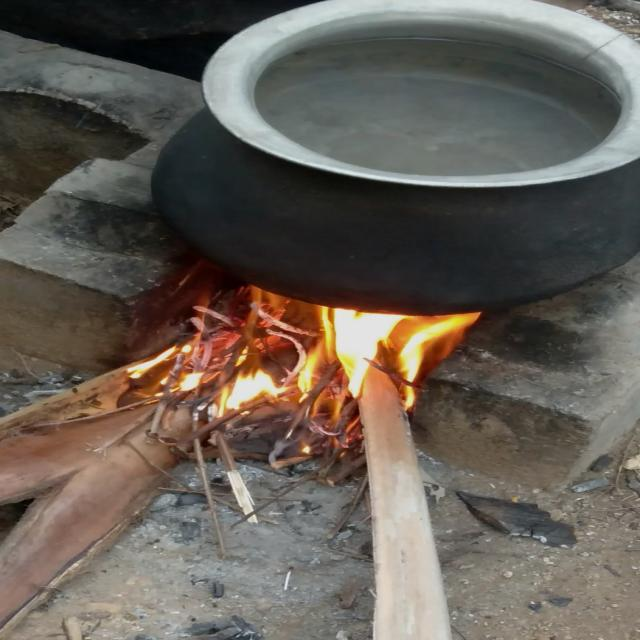firerotation: (124, 290, 484, 458)
